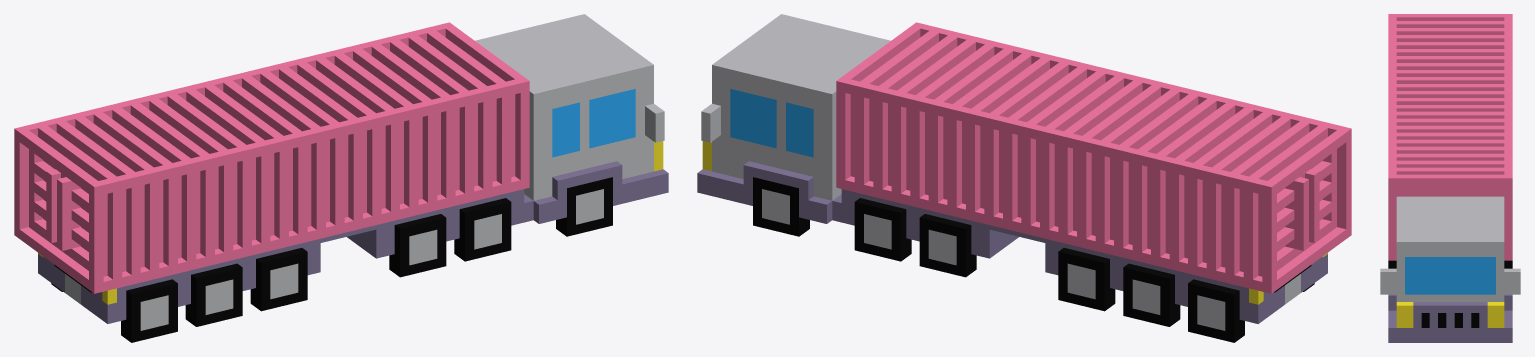
File: cargo_truck_e.obj
3 renders of one model, left to right at view 1: azimuth 30°, elevation 25°; view 2: azimuth 150°, elevation 25°; view 3: azimuth 270°, elevation 25°, orthographic. The views are drawn at different scales.
Bounding box in the file's own units: 6.2 × 1.7 × 1.7.
Materials: 1 (1 with a texture image).
